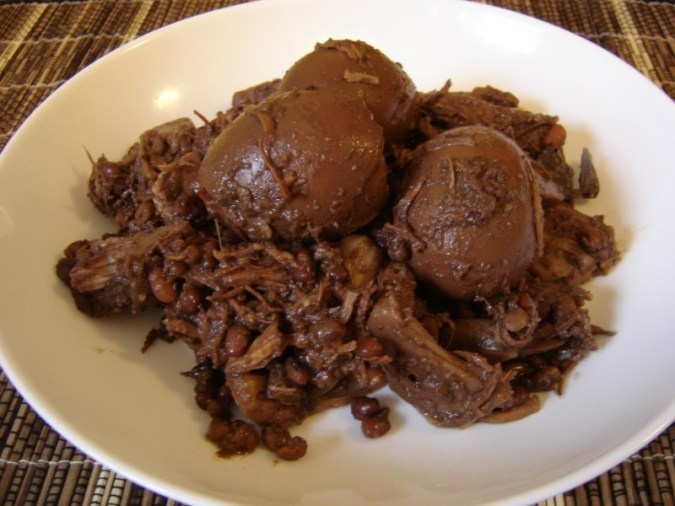gudeg: (71, 65, 660, 476)
